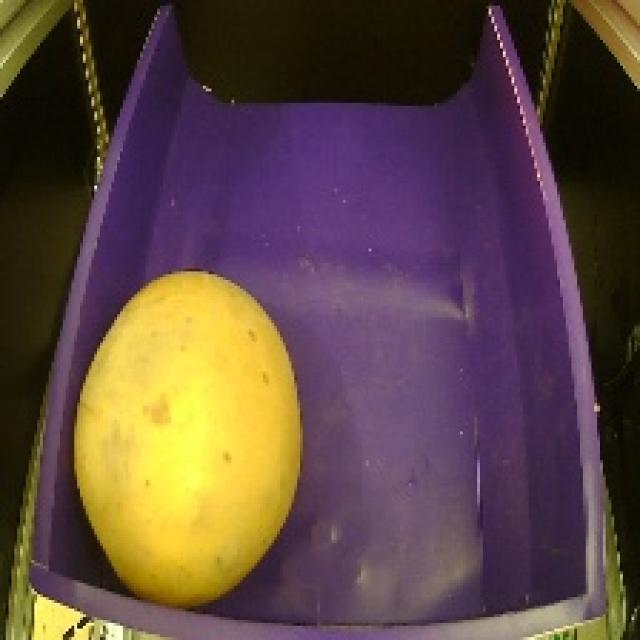full_potato: (63, 260, 318, 613)
